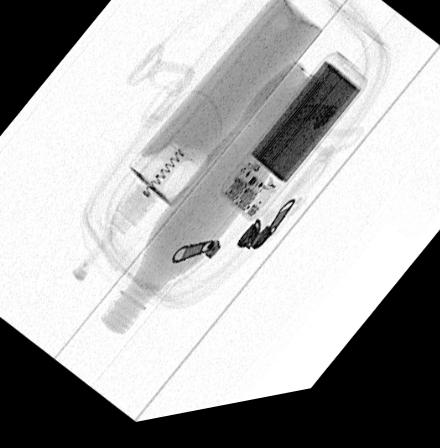Powerbank: (218, 63, 368, 232)
